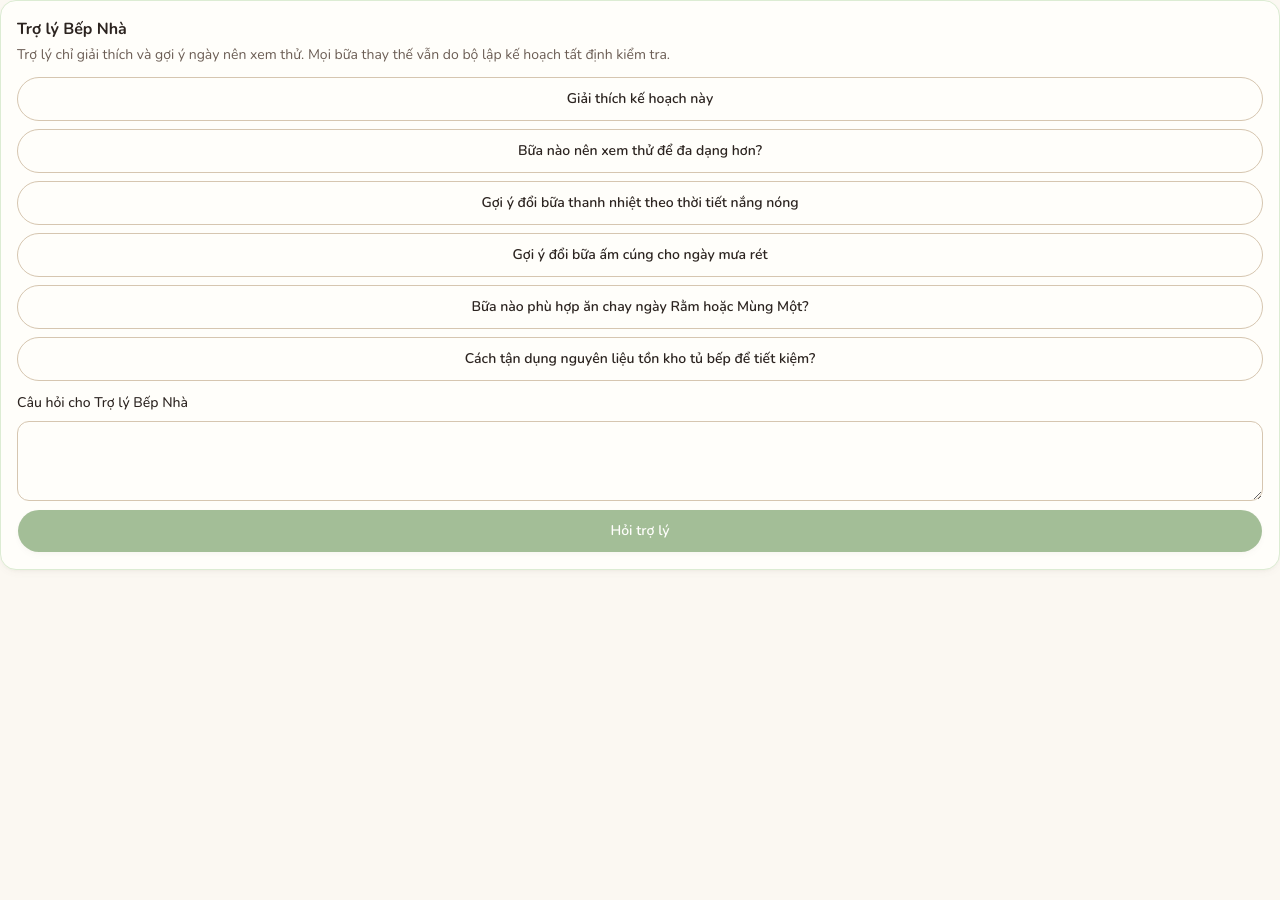
Test: AssistantCard › renders an explanation returned by the assistant
Click the button "Giải thích kế hoạch này": (640, 99) [17,77,1263,121]
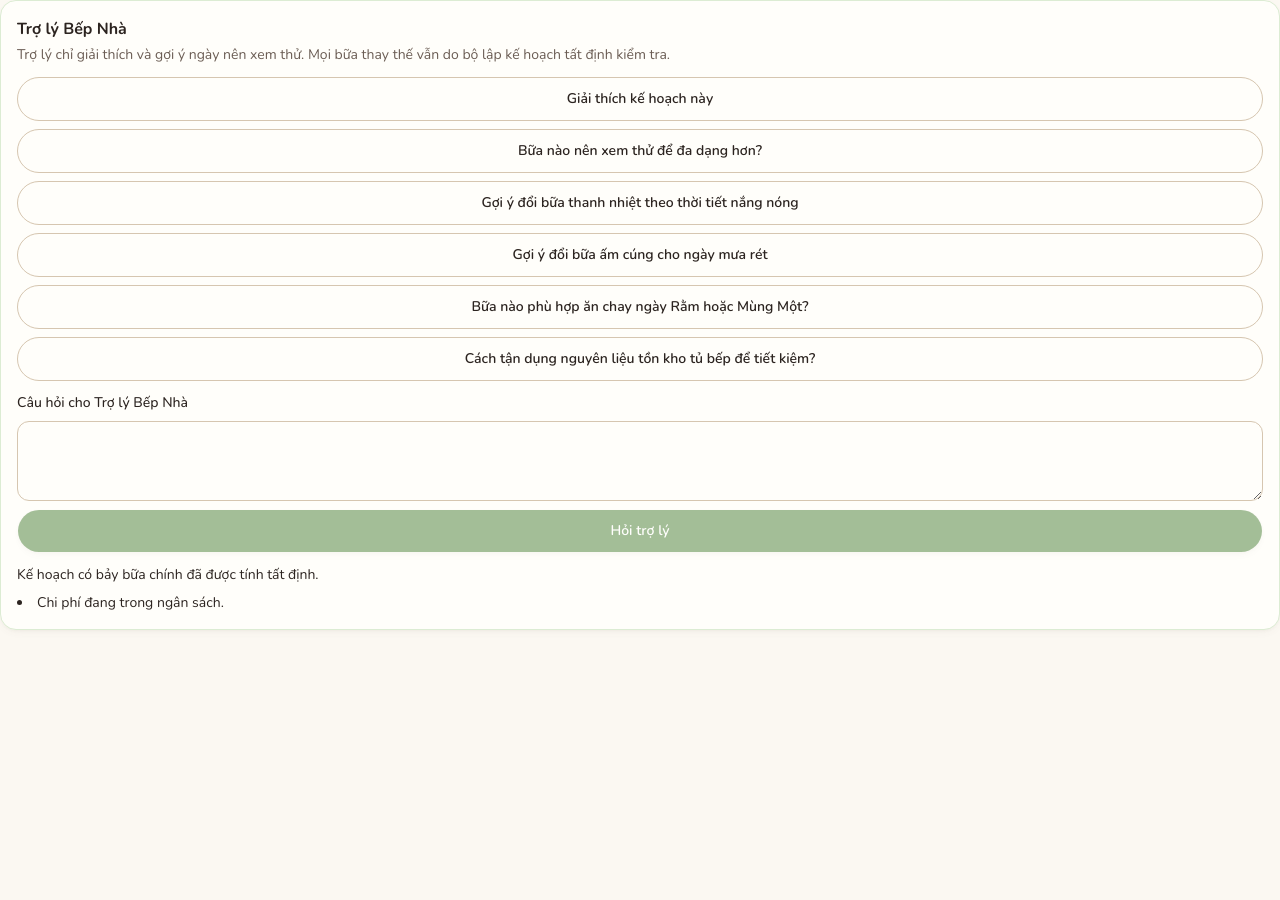
Now the text "Kế hoạch có bảy bữa chính đã được tính tất định." is shown, box [17,565,319,584]
Now the list item "Chi phí đang trong ngân sách." is shown, box [37,593,224,612]
